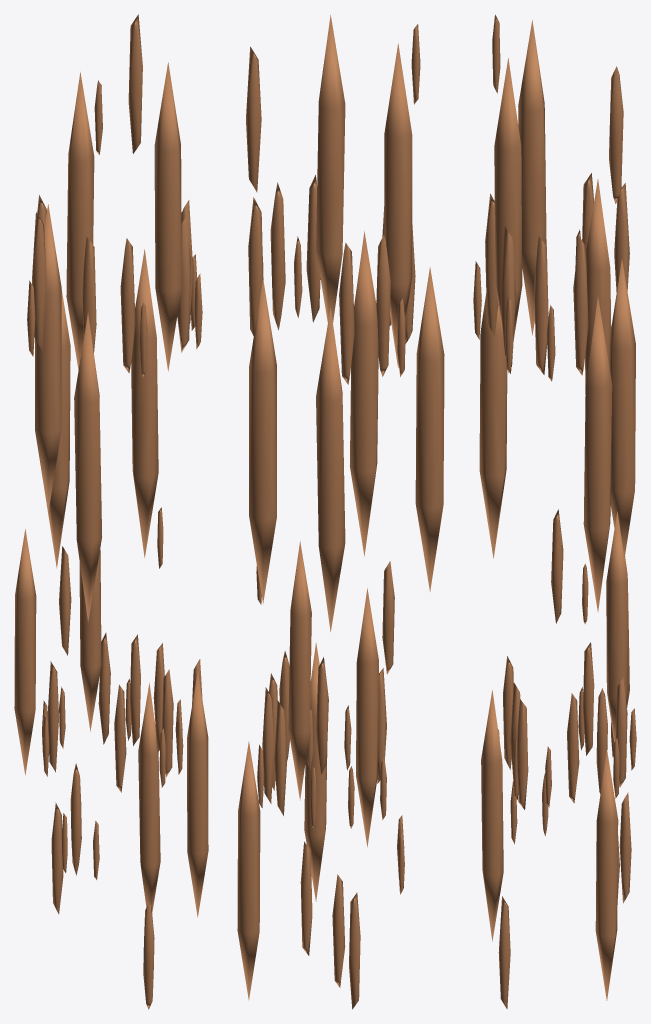
The model's file is dirt_particles.glb.
The picture shows the model from 3 angles, left to right: view 1: azimuth 30°, elevation 25°; view 2: azimuth 150°, elevation 25°; view 3: azimuth 270°, elevation 25°; orthographic projection. The views are drawn at different scales.
Parts seen in each view (by area): view 1: dirt_particle.001; view 2: dirt_particle.001; view 3: dirt_particle.001.
Boxes of the visible parts, x1,y1,x2,y2 form: dirt_particle.001: [14, 14, 208, 1009]; dirt_particle.001: [237, 15, 444, 1009]; dirt_particle.001: [473, 14, 636, 1009].
Bounding box in the file's own units: 0.3418 × 1.99 × 0.3038.
Materials: 1 (1 with a texture image).
